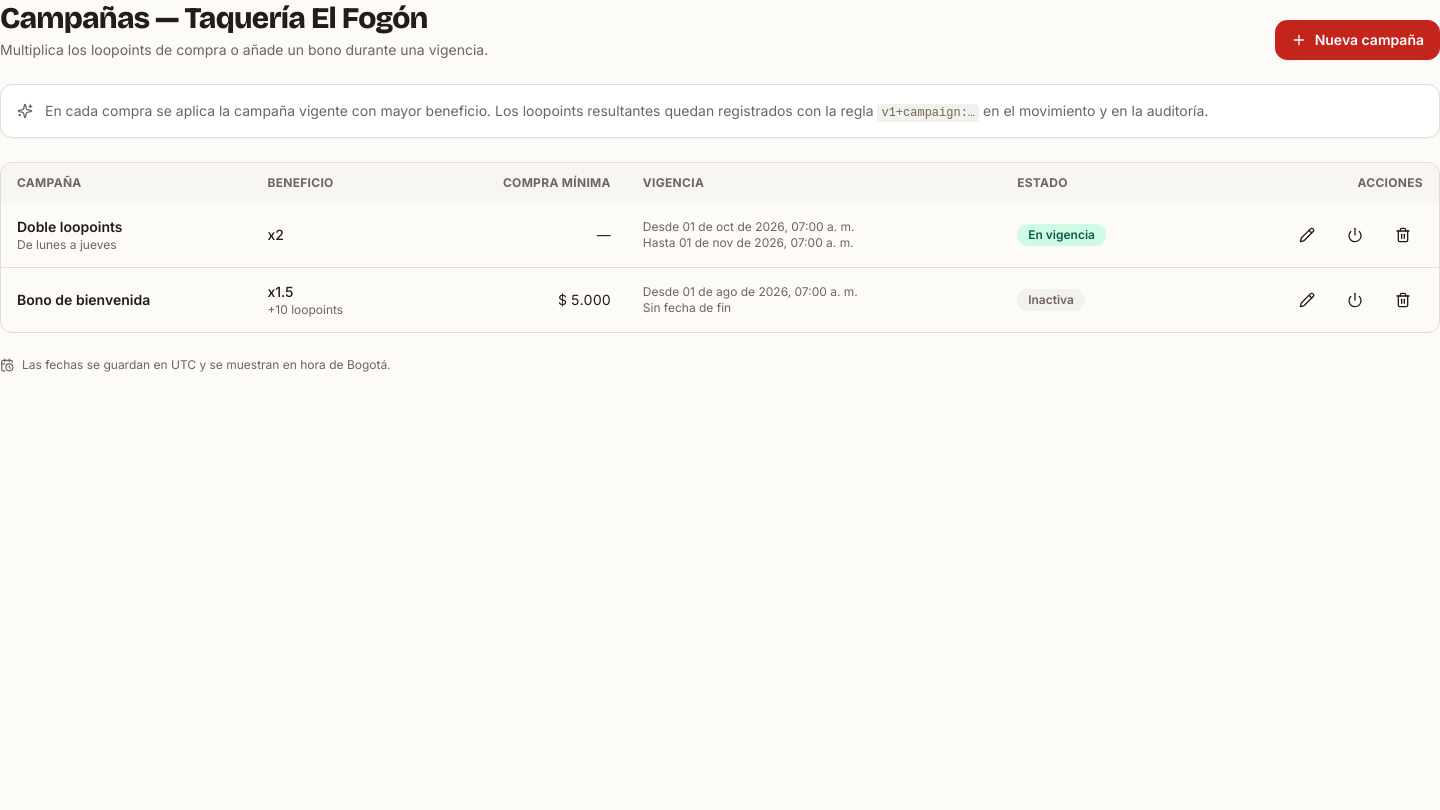
CampaignsPage › rechaza una fecha de fin anterior al inicio
The image size is (1440, 810).
Click the button "Nueva campaña".
click(1357, 40)  # box [1275, 20, 1439, 60]
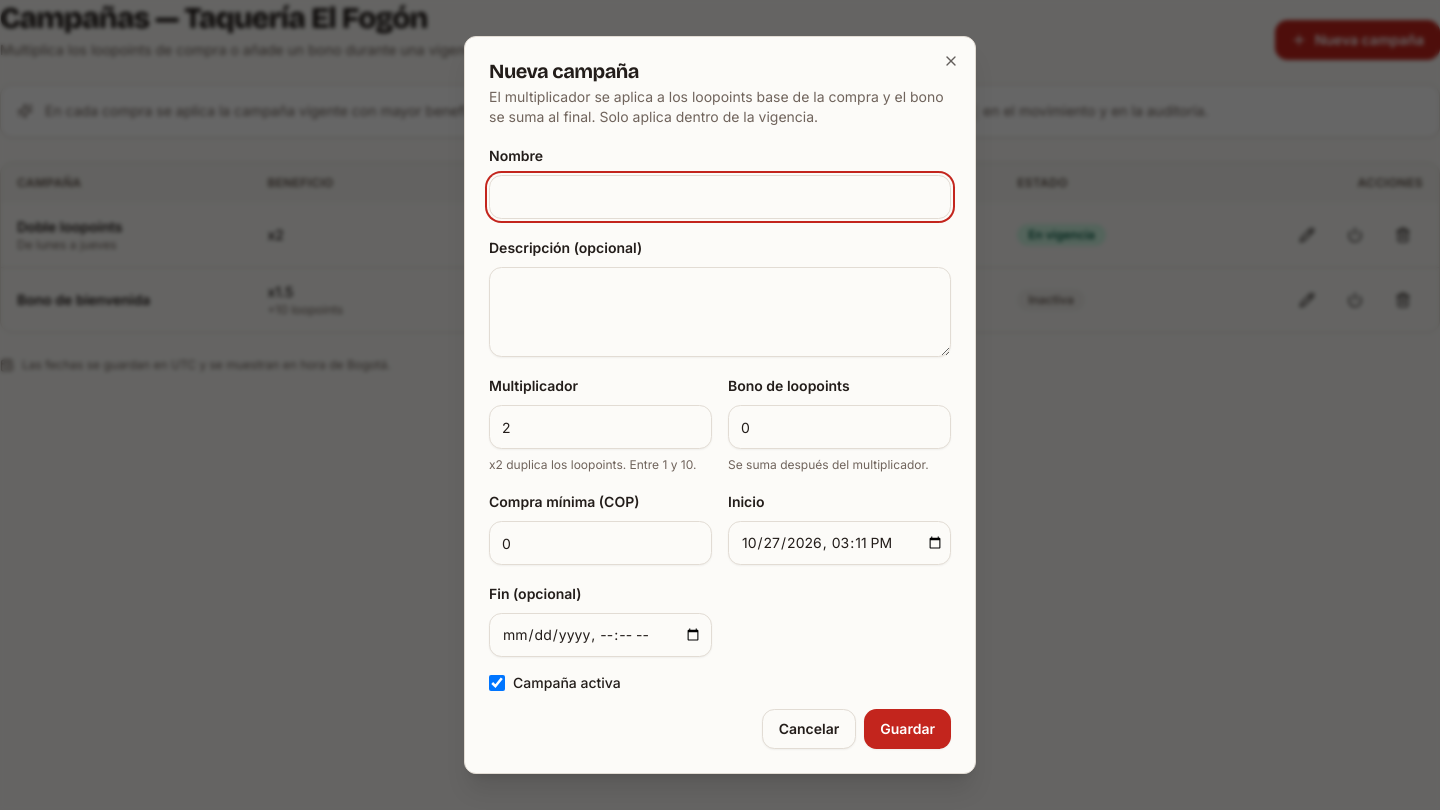
Type "Campaña inválida" into the field labelled "Nombre".
click(720, 197); type("Campaña inválida")  # box [489, 175, 951, 219]
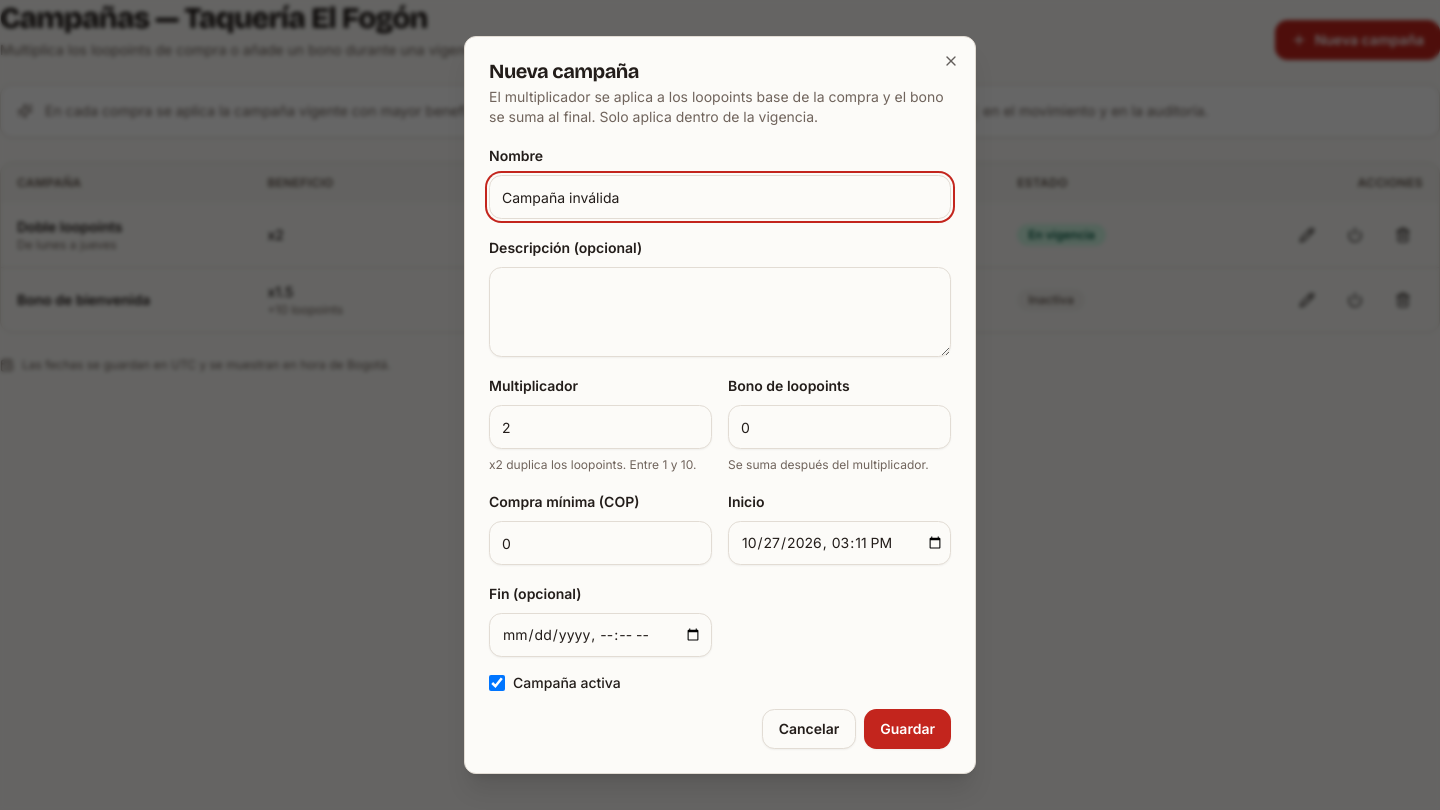
Type "2020-01-01T00:00" into the field labelled "Fin (opcional)".
click(600, 635); type("2020-01-01T00:00")  # box [489, 613, 712, 657]
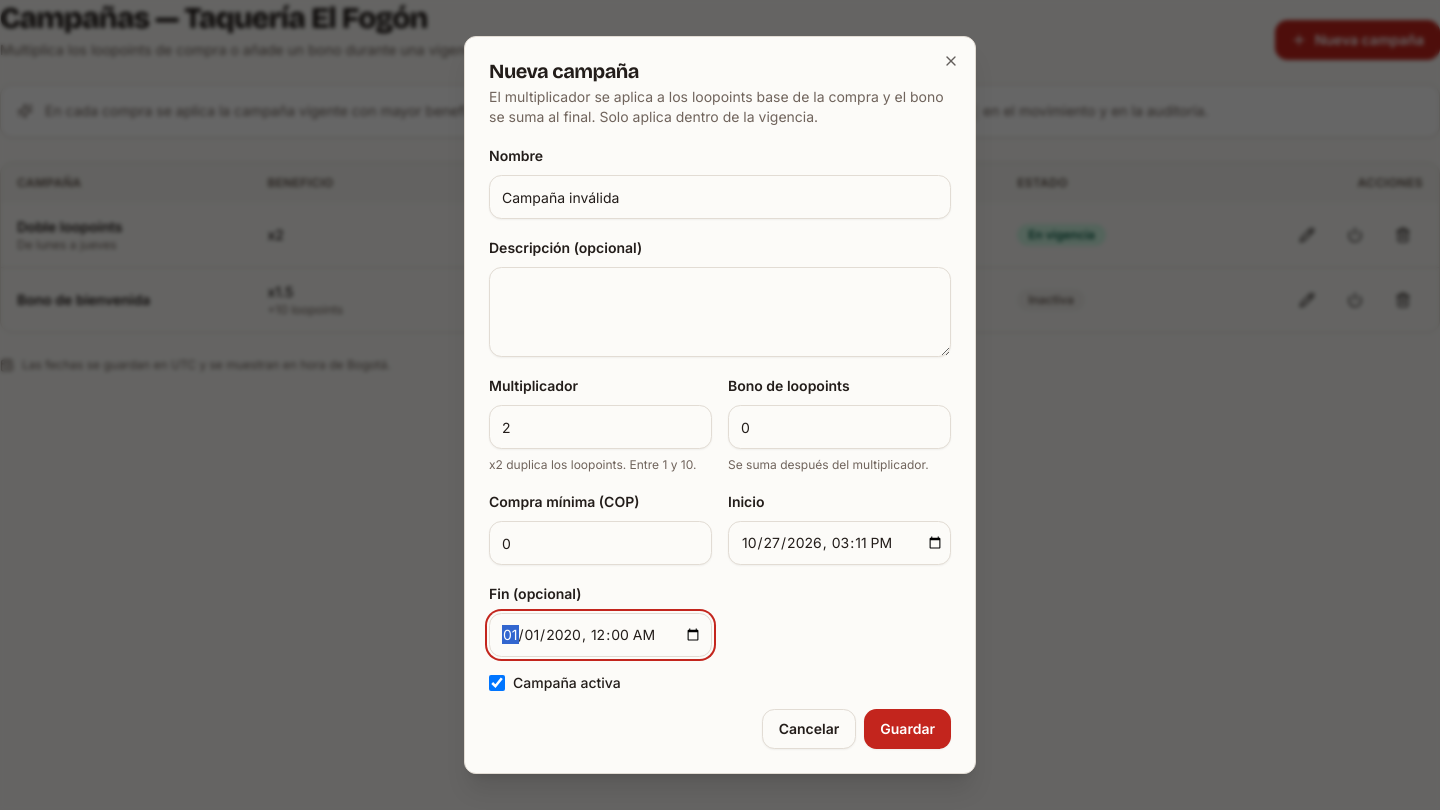
Click the button "Guardar".
click(908, 729)  # box [864, 709, 951, 749]
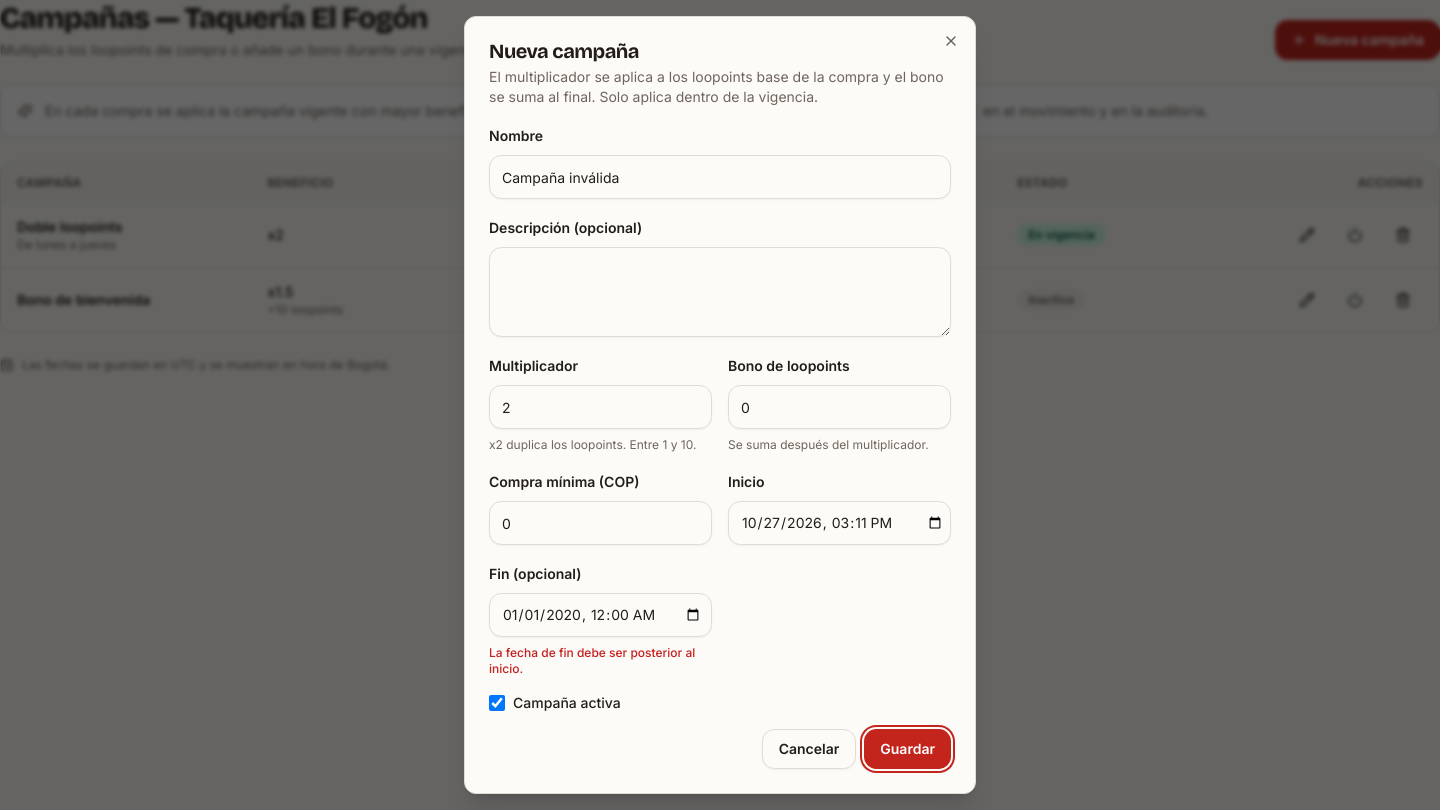
Result: the text "La fecha de fin debe ser posterior al inicio." is shown at [489, 645, 712, 677]
